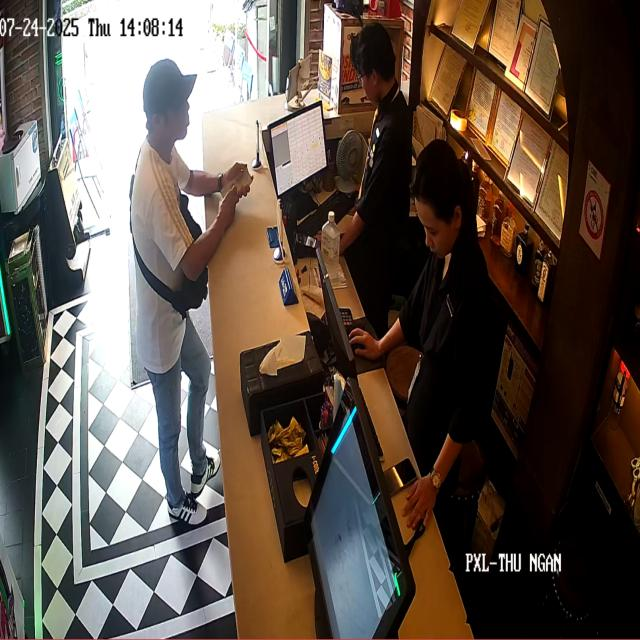khach: (125, 49, 234, 536)
nhan vien: (419, 134, 500, 465), (358, 24, 403, 284)
